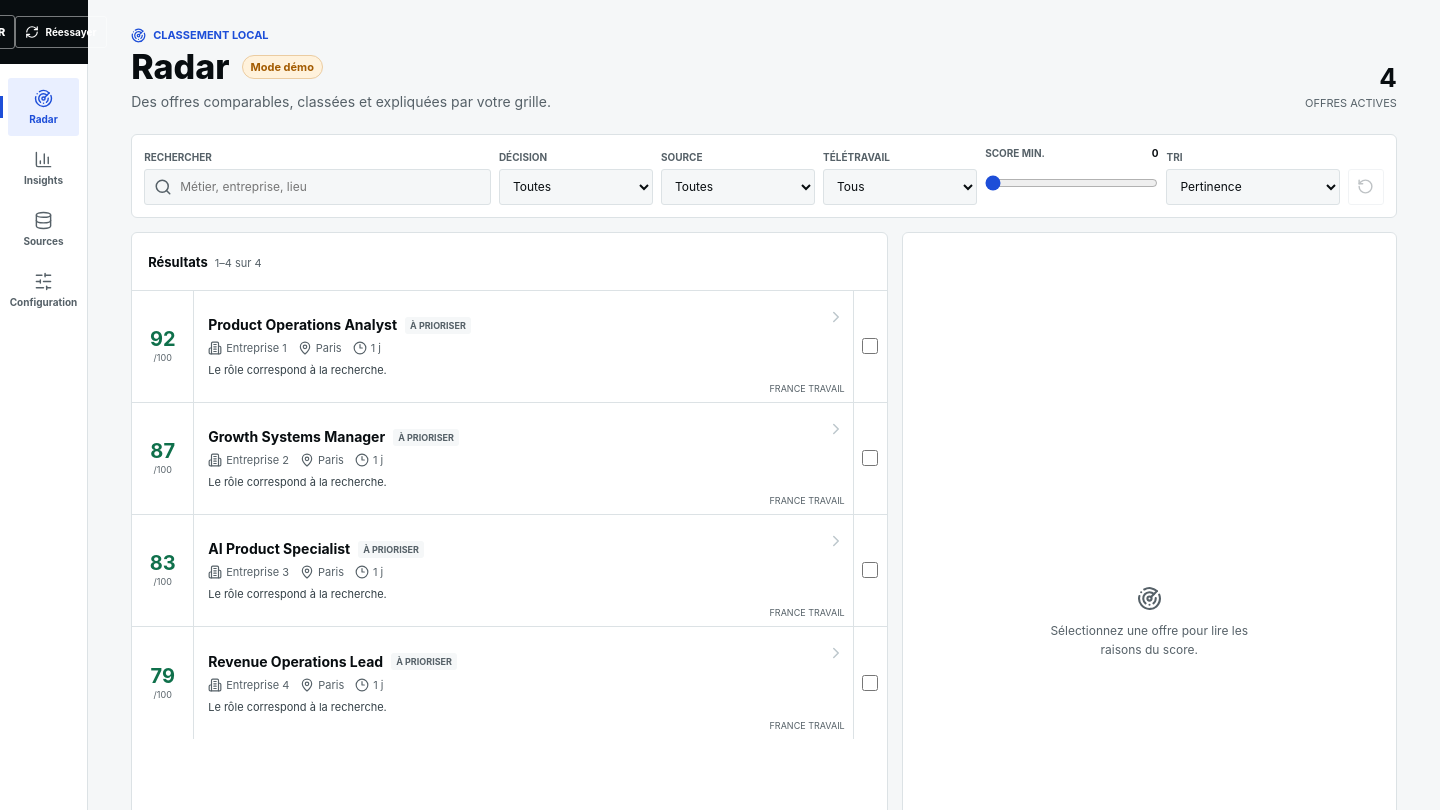
Test: Radar public › désactive le feedback lorsque la session locale est indisponible
Click the button named "ouvrir product operations analyst". click: (303, 325)
box: [194,291,853,402]
(page scrolled)
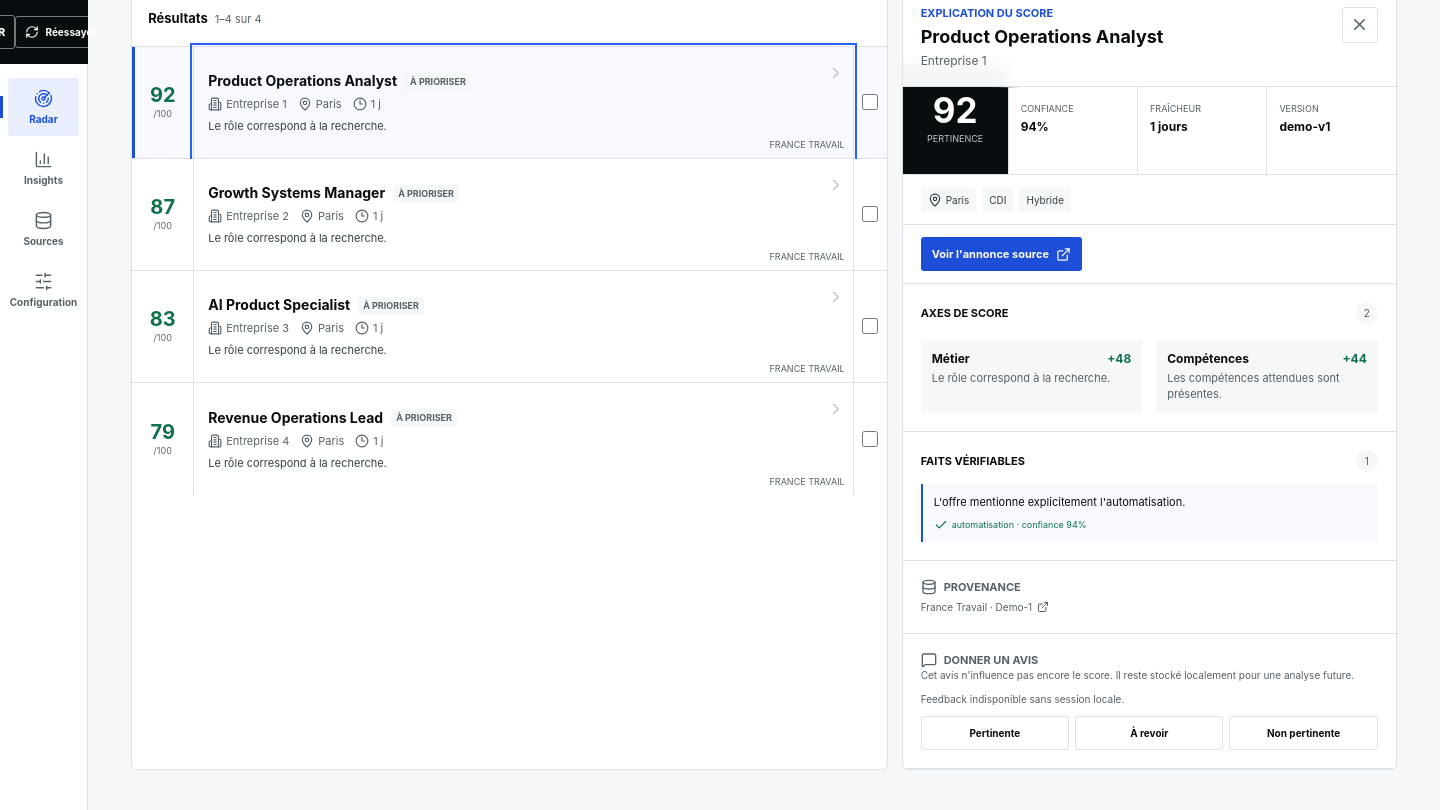
Result: the text "Feedback indisponible sans session locale." is shown at [921,693,1124,705]
Result: the button "Pertinente" is disabled at [921,716,1069,750]
Result: the button "À revoir" is disabled at [1075,716,1223,750]
